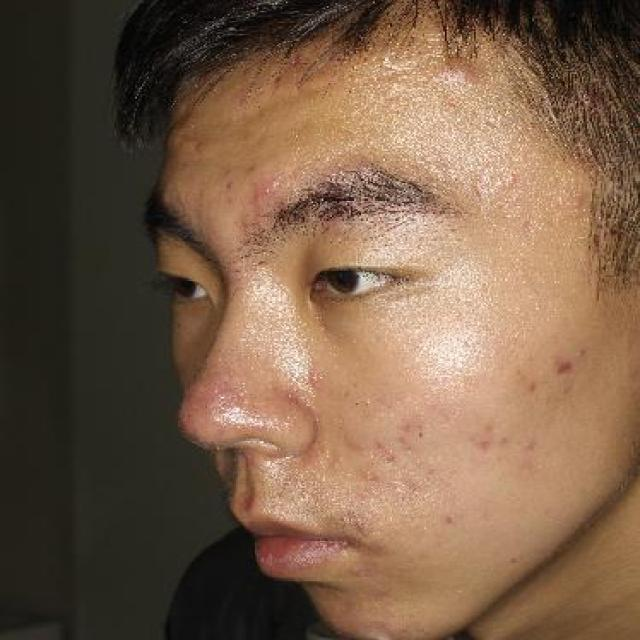darkspot: (543, 348, 587, 386), (470, 415, 497, 437), (392, 417, 421, 437), (517, 432, 543, 454), (492, 431, 516, 454), (436, 509, 461, 528), (470, 434, 490, 451), (366, 438, 386, 451)
nodules: (426, 56, 494, 99), (502, 166, 519, 186)
